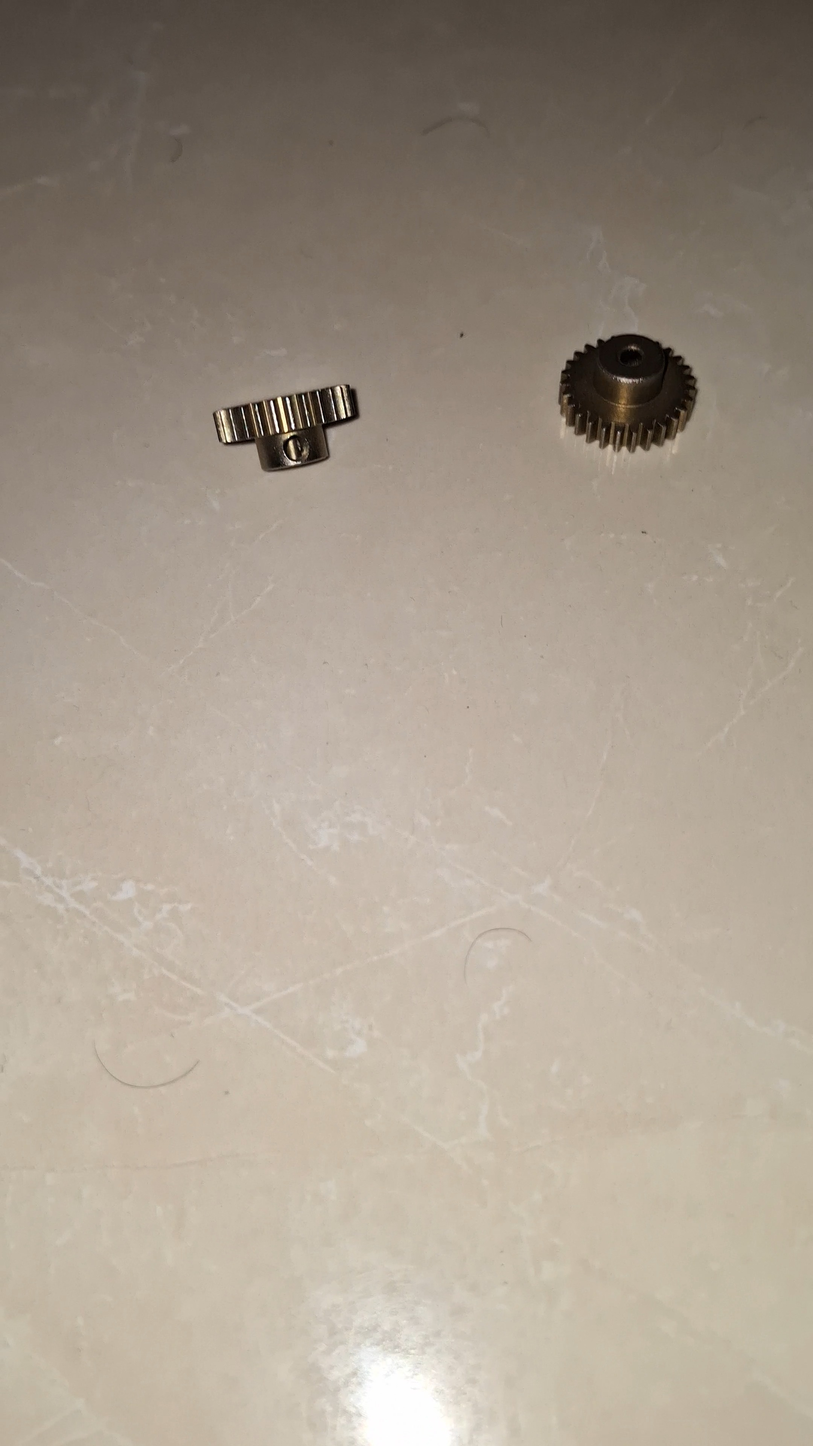spur gear: (559, 334, 696, 451), (215, 385, 357, 470)
